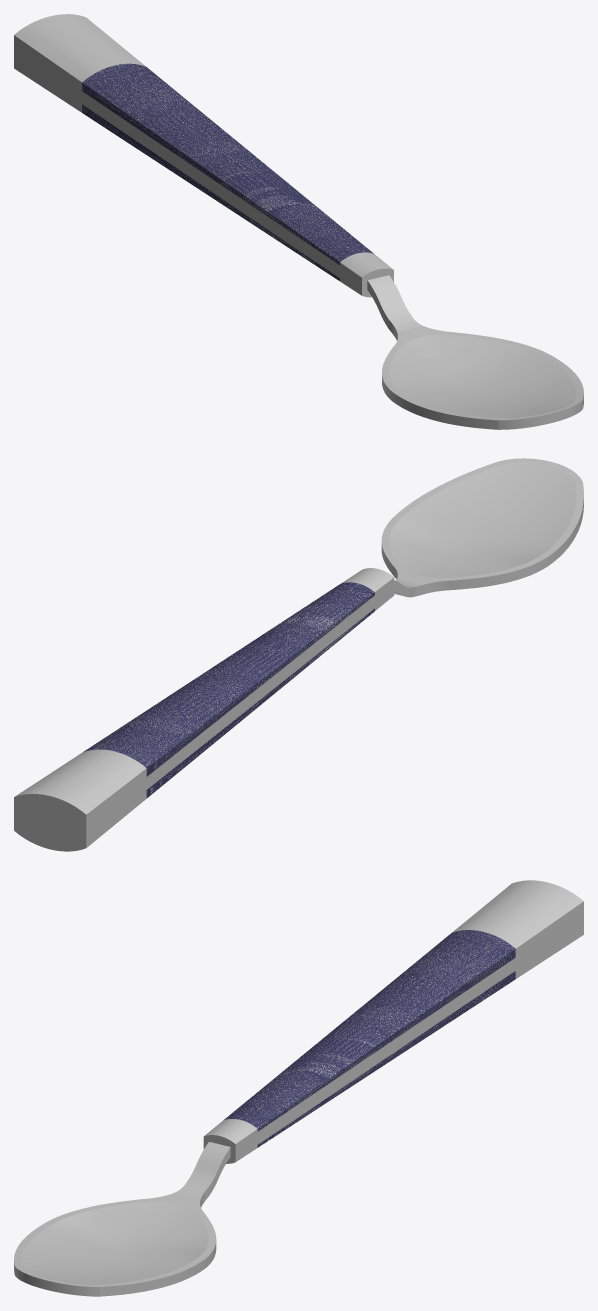
3 views of the same model, one above another, from view 1: azimuth 30°, elevation 25°; view 2: azimuth 150°, elevation 25°; view 3: azimuth 330°, elevation 25° (orthographic).
Visible parts, largest first — view 1: group_4, group_3, group_1, group_2; view 2: group_4, group_1, group_3, group_2; view 3: group_4, group_3, group_1, group_2.
Boxes of the visible parts, bbox=[...] form: group_4: bbox=[367, 275, 583, 429]; group_3: bbox=[82, 63, 373, 264]; group_1: bbox=[14, 14, 393, 297]; group_2: bbox=[82, 104, 339, 280]; group_4: bbox=[381, 458, 583, 597]; group_1: bbox=[14, 568, 394, 851]; group_3: bbox=[83, 582, 374, 776]; group_2: bbox=[146, 608, 374, 798]; group_4: bbox=[14, 1142, 230, 1296]; group_3: bbox=[224, 930, 515, 1131]; group_1: bbox=[203, 880, 583, 1163]; group_2: bbox=[257, 971, 515, 1147].
Bounding box in the file's own units: 1.39 × 7.68 × 0.5696.
